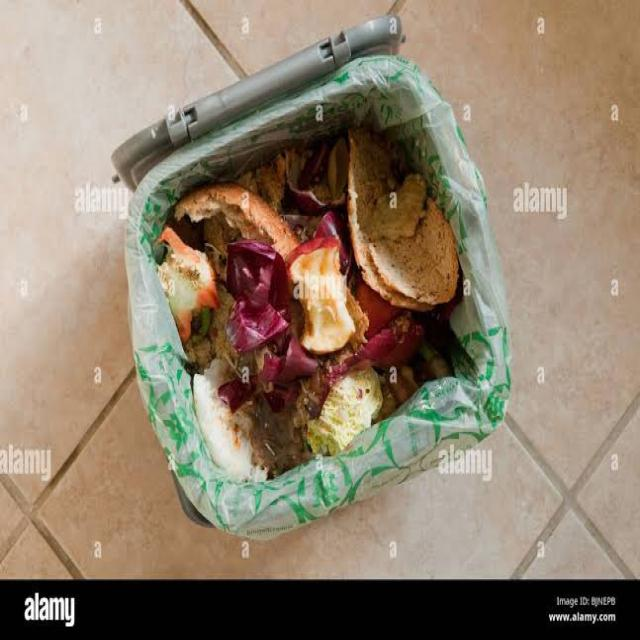organic: (348, 125, 460, 312), (214, 238, 318, 414), (285, 236, 356, 354), (155, 226, 221, 343), (305, 364, 384, 454), (326, 315, 425, 375)
